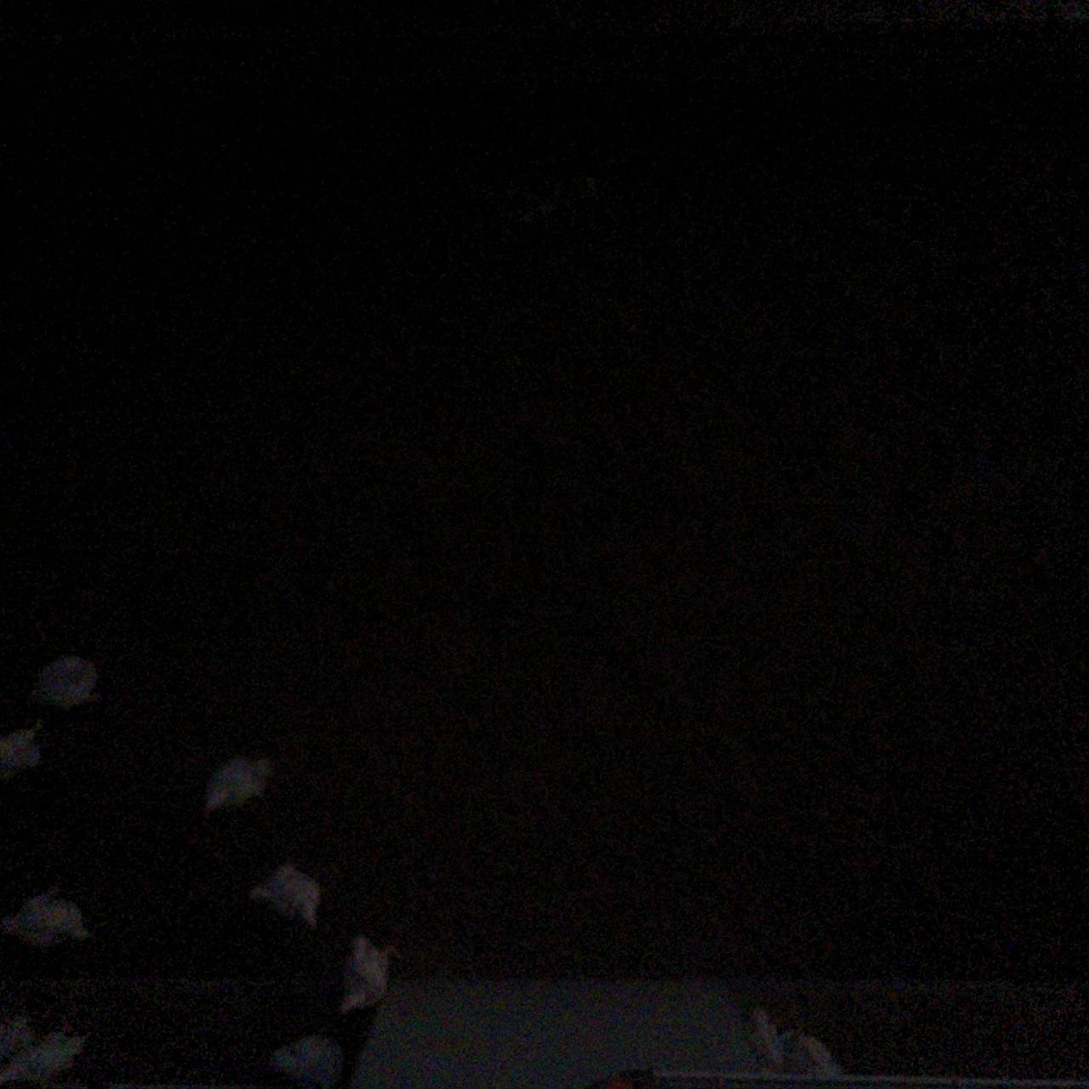chicken: (488, 136, 606, 225), (4, 1017, 105, 1089), (328, 925, 405, 1019), (3, 885, 95, 949), (259, 1028, 351, 1089), (195, 749, 278, 815), (244, 856, 323, 925), (27, 647, 100, 714), (739, 1003, 790, 1077), (780, 1019, 840, 1080), (0, 720, 49, 782), (0, 1004, 44, 1069)
